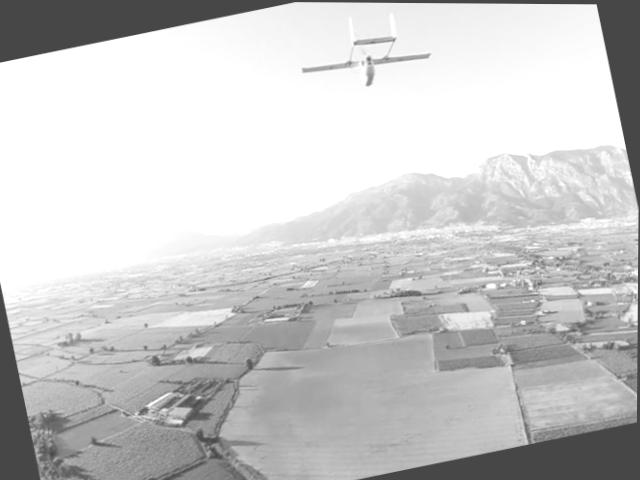hedef: (283, 2, 449, 123)
